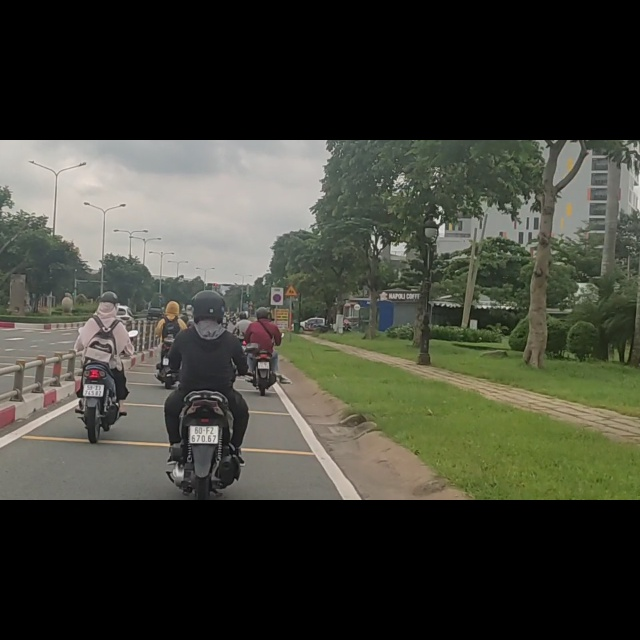bien_nguy_hiem: (284, 256, 298, 277), (273, 274, 282, 289)
